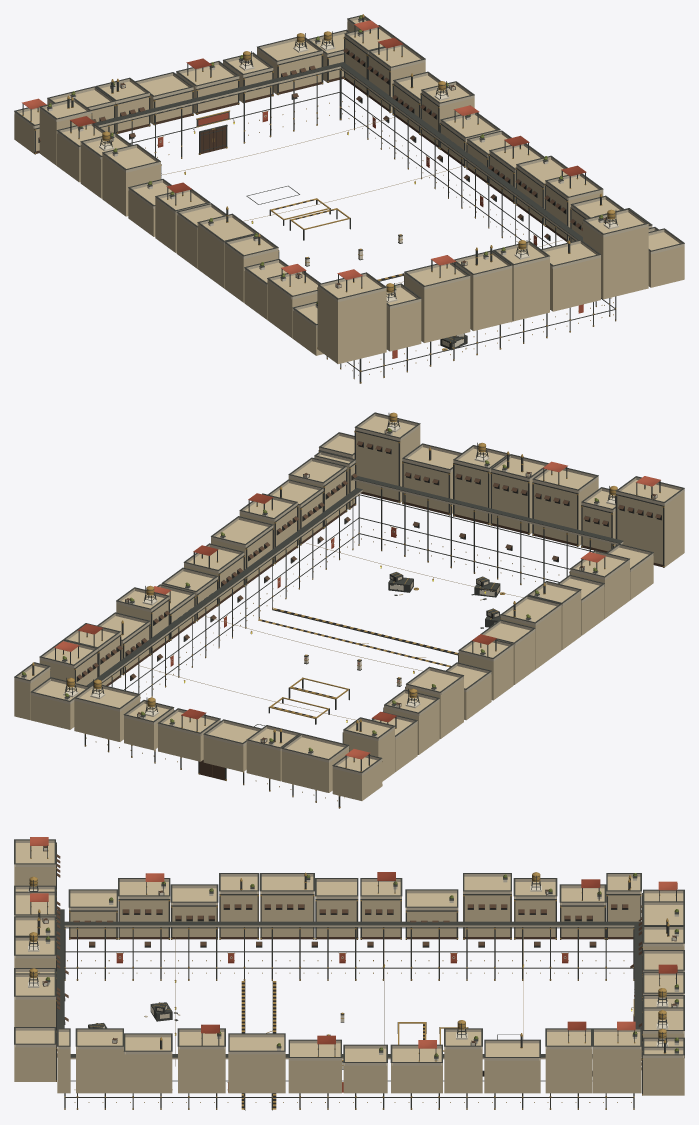
File: training_set.glb
3 views of the same model, one above another, from view 1: azimuth 30°, elevation 25°; view 2: azimuth 150°, elevation 25°; view 3: azimuth 270°, elevation 25° (orthographic). The views are drawn at different scales.
Parts seen in each view (by area): view 1: training_set; view 2: training_set; view 3: training_set.
Boxes of the visible parts, box(x1,y1,x2,y2) form: training_set: box(14, 14, 684, 383); training_set: box(14, 412, 684, 808); training_set: box(14, 837, 684, 1110).
Size of the model in its own units: 60.06 by 22.4 by 96.46.
